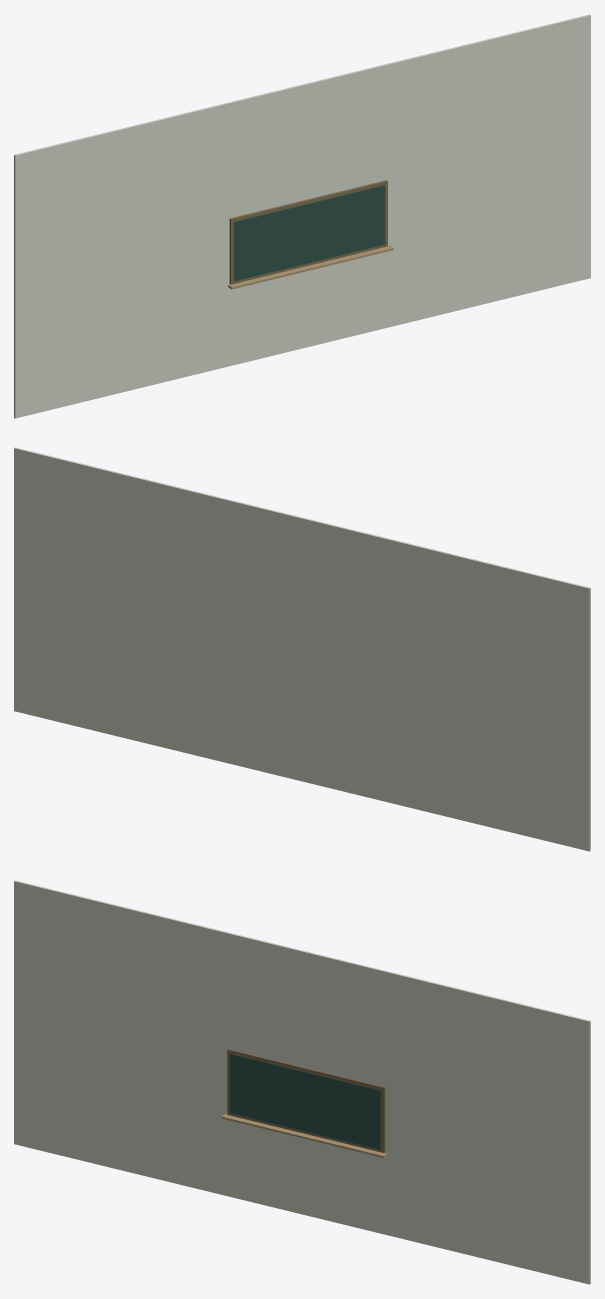
Rendered from classroom-backdrop.glb.
3 views of the same model, one above another, from view 1: azimuth 30°, elevation 25°; view 2: azimuth 150°, elevation 25°; view 3: azimuth 330°, elevation 25° (orthographic).
Parts seen in each view (by area): view 1: wall, chalkboard, board-frame, chalk-tray; view 2: wall; view 3: wall, chalkboard, board-frame, chalk-tray.
Part boxes in pixels (x1,y1,x2,y2): wall: (14, 14, 590, 418); chalkboard: (234, 185, 385, 281); board-frame: (229, 180, 387, 284); chalk-tray: (228, 245, 393, 289); wall: (14, 447, 590, 851); wall: (14, 880, 590, 1284); chalkboard: (230, 1053, 381, 1149); board-frame: (227, 1048, 385, 1152); chalk-tray: (221, 1114, 387, 1157).
Bounding box in the file's own units: 110 × 48 × 1.9.
